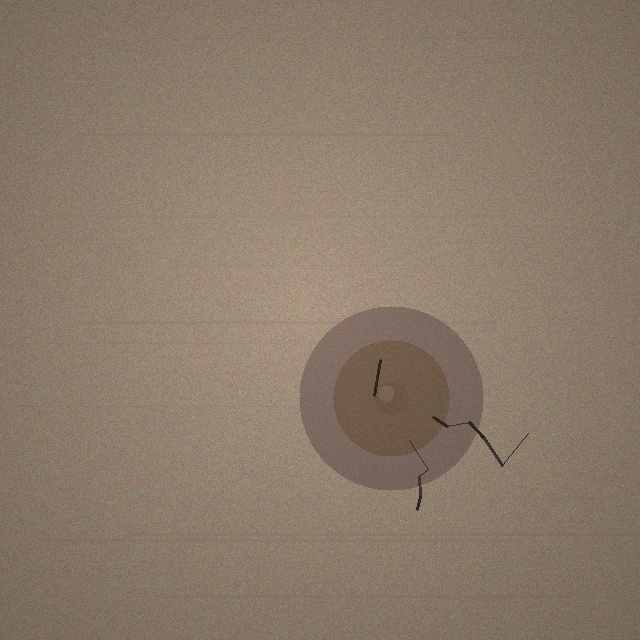crack: (299, 306, 483, 490)
